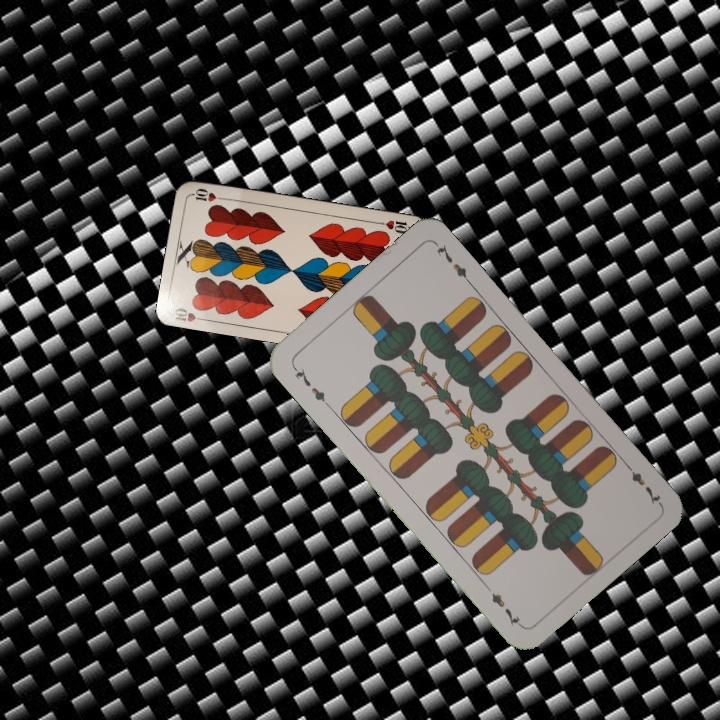E7: (288, 362, 333, 410), (620, 458, 663, 507)
H10: (171, 303, 210, 325), (376, 216, 416, 236)
